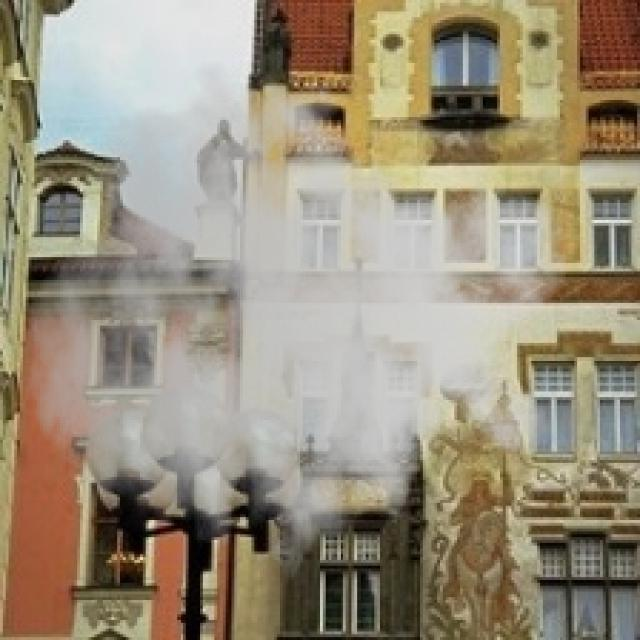Smoke: (26, 49, 572, 606)
